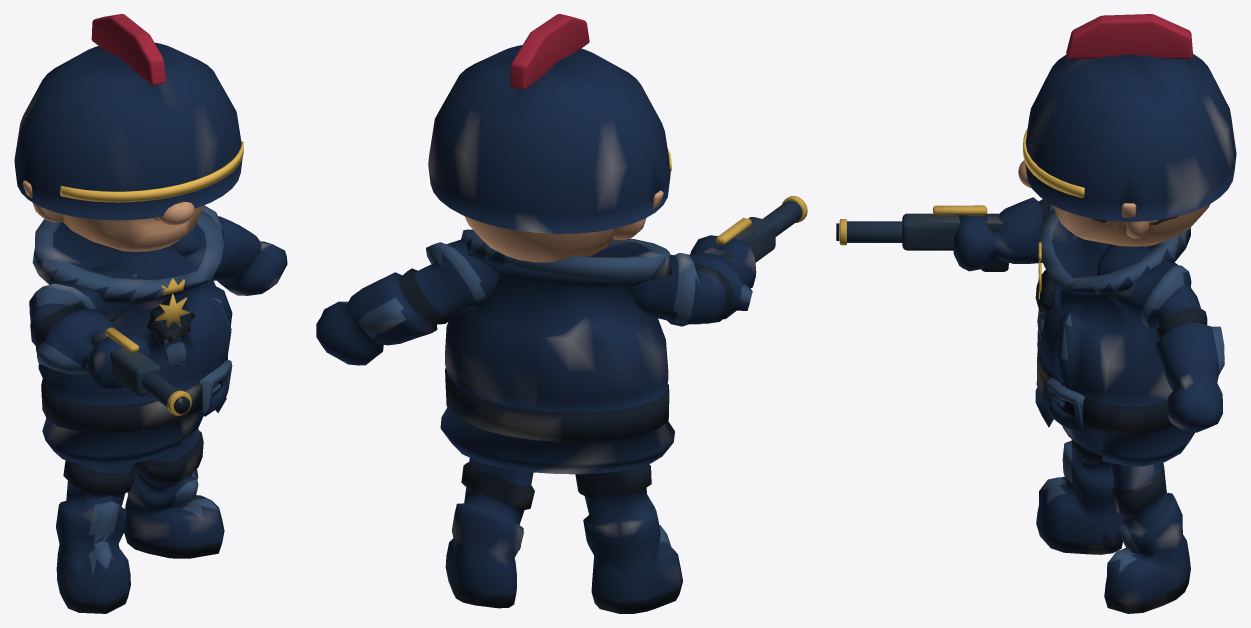
The model's file is HALFGROWN_LEGIONARY.hi.glb.
3 renders of one model, left to right at view 1: azimuth 30°, elevation 25°; view 2: azimuth 150°, elevation 25°; view 3: azimuth 270°, elevation 25°, orthographic. The views are drawn at different scales.
Parts seen in each view (by area): view 1: body (×2), recoil, legR, legL; view 2: body, recoil, legR, legL; view 3: body (×2), recoil, legL, legR.
Part boxes in pixels (box(x1,y1,x2,y2)): body (×2): box(14, 14, 243, 465); recoil: box(29, 205, 287, 415); legR: box(56, 460, 135, 613); legL: box(124, 428, 224, 558); body: box(428, 14, 674, 474); recoil: box(316, 196, 807, 365); legR: box(575, 464, 682, 613); legL: box(445, 458, 534, 608); body (×2): box(1018, 14, 1236, 466); recoil: box(836, 197, 1224, 432); legL: box(1104, 462, 1190, 613); legR: box(1036, 439, 1124, 554).
Bounding box in the file's own units: 0.6318 × 1 × 0.6552.
